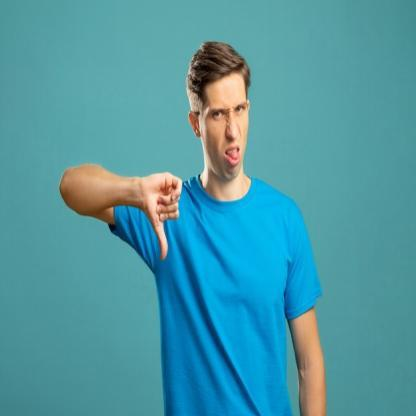thumb_down: (142, 170, 182, 262)
